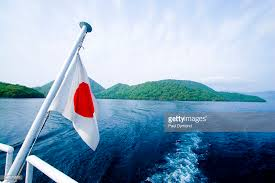Japanese Flag: (44, 48, 113, 153)
